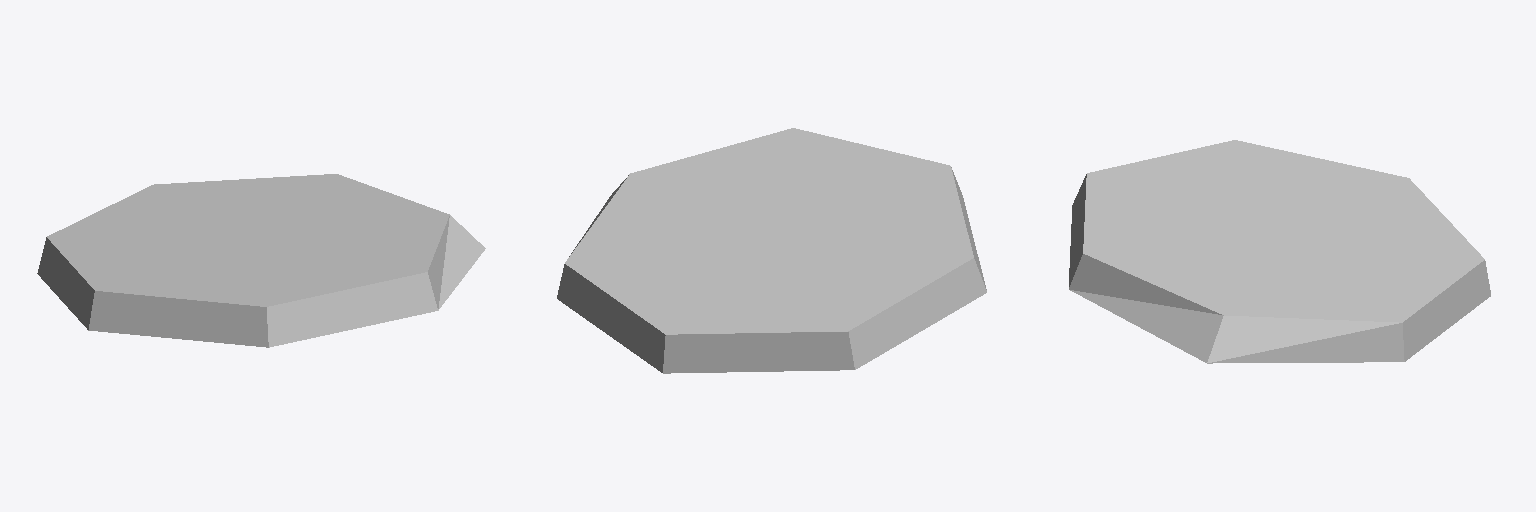
File: trash_bucket_deformed_hat1.obj
3 views of the same model, side by side, from view 1: azimuth 30°, elevation 25°; view 2: azimuth 150°, elevation 25°; view 3: azimuth 270°, elevation 25° (orthographic).
Parts seen in each view (by area): view 1: trash_bin_header.001; view 2: trash_bin_header.001; view 3: trash_bin_header.001.
Part boxes in pixels (x1,y1,x2,y2): trash_bin_header.001: (37,174,485,347); trash_bin_header.001: (557,128,986,373); trash_bin_header.001: (1069,140,1490,363).
Size of the model in its own units: 0.3161 by 0.0635 by 0.2991.